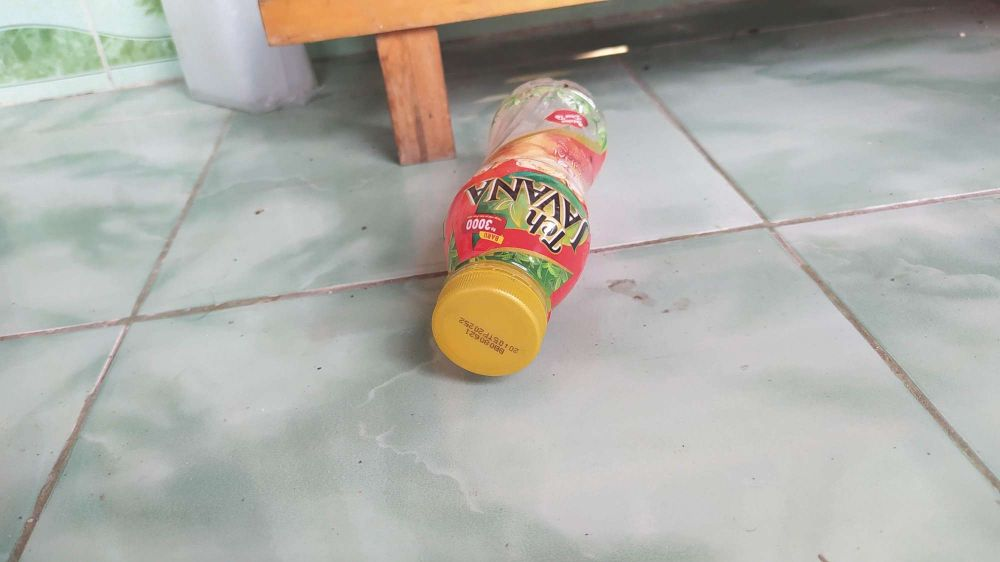botol: (427, 52, 618, 410)
